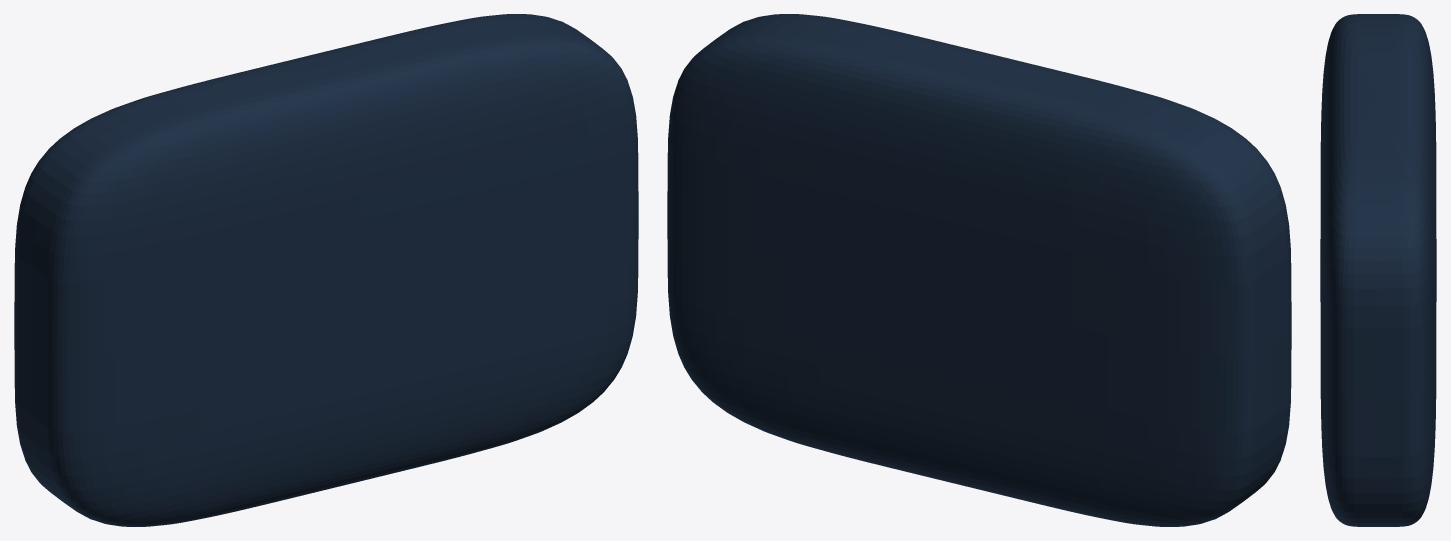
Rendered from face_glass.glb.
3 renders of one model, left to right at view 1: azimuth 30°, elevation 25°; view 2: azimuth 150°, elevation 25°; view 3: azimuth 270°, elevation 25°, orthographic. The views are drawn at different scales.
Parts seen in each view (by area): view 1: face_glass; view 2: face_glass; view 3: face_glass.
Boxes of the visible parts, bbox=[...] form: face_glass: bbox=[14, 14, 638, 526]; face_glass: bbox=[667, 14, 1291, 526]; face_glass: bbox=[1320, 14, 1436, 526].
Bounding box in the file's own units: 118 × 78 × 23.6.
